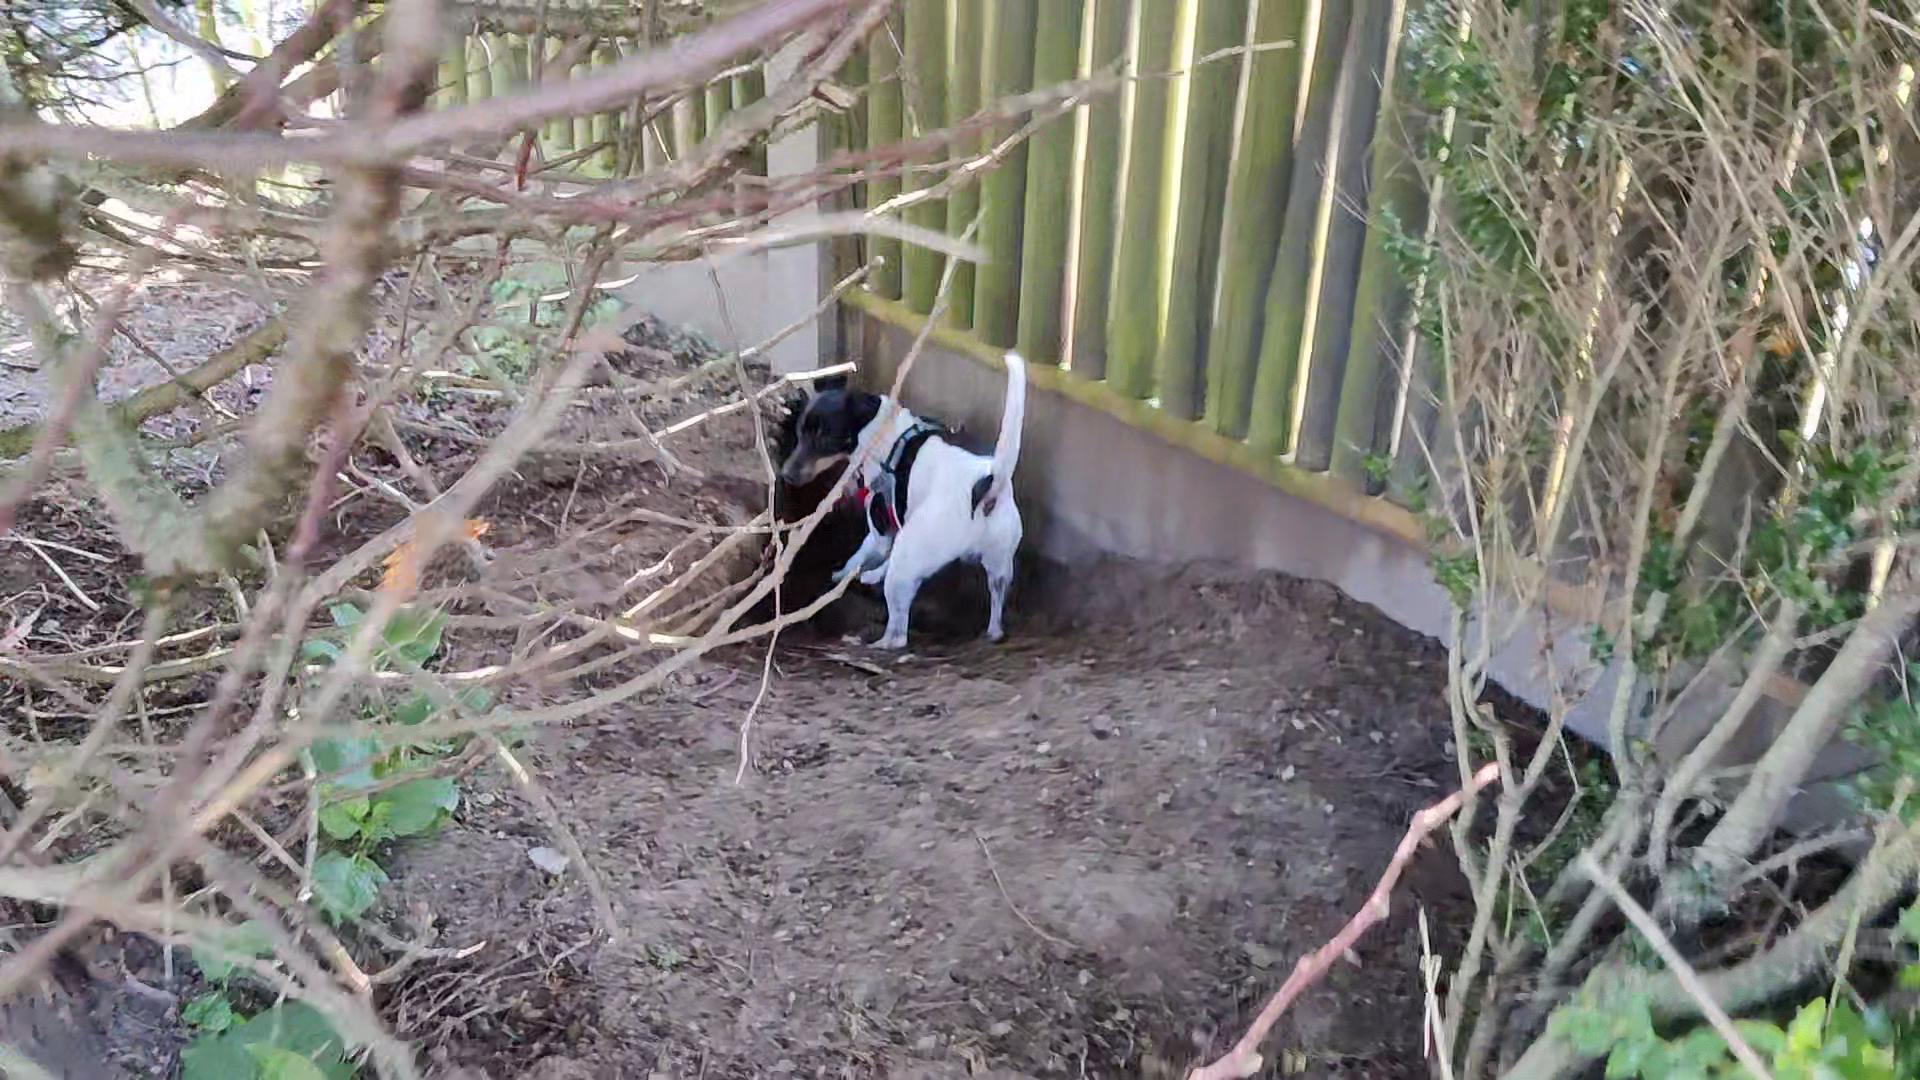Dog: (769, 320, 1042, 666)
